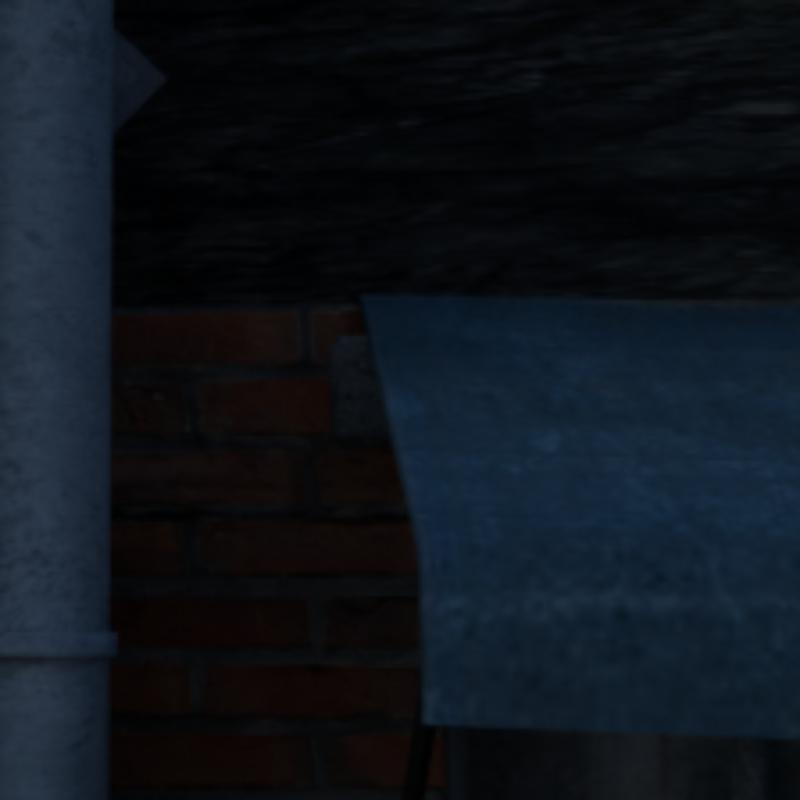crack: (239, 511, 325, 518), (111, 512, 188, 518), (208, 511, 225, 518)
